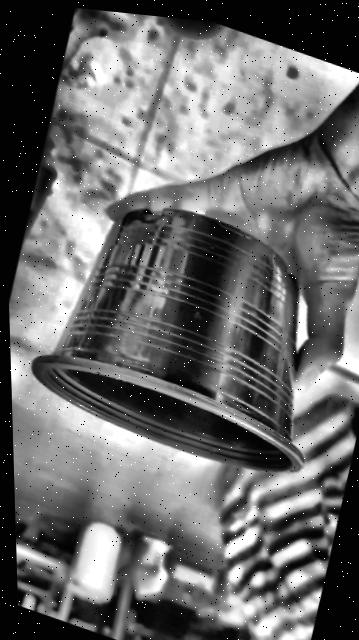pot: (31, 208, 303, 470)
